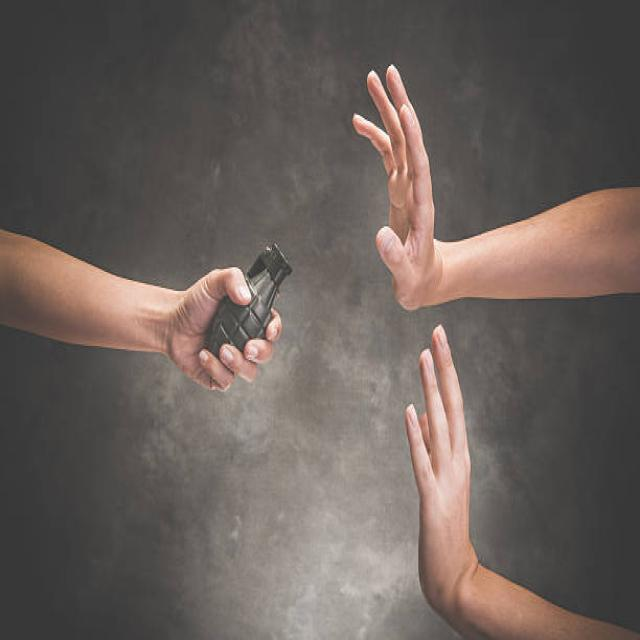grenade: (206, 240, 294, 357)
